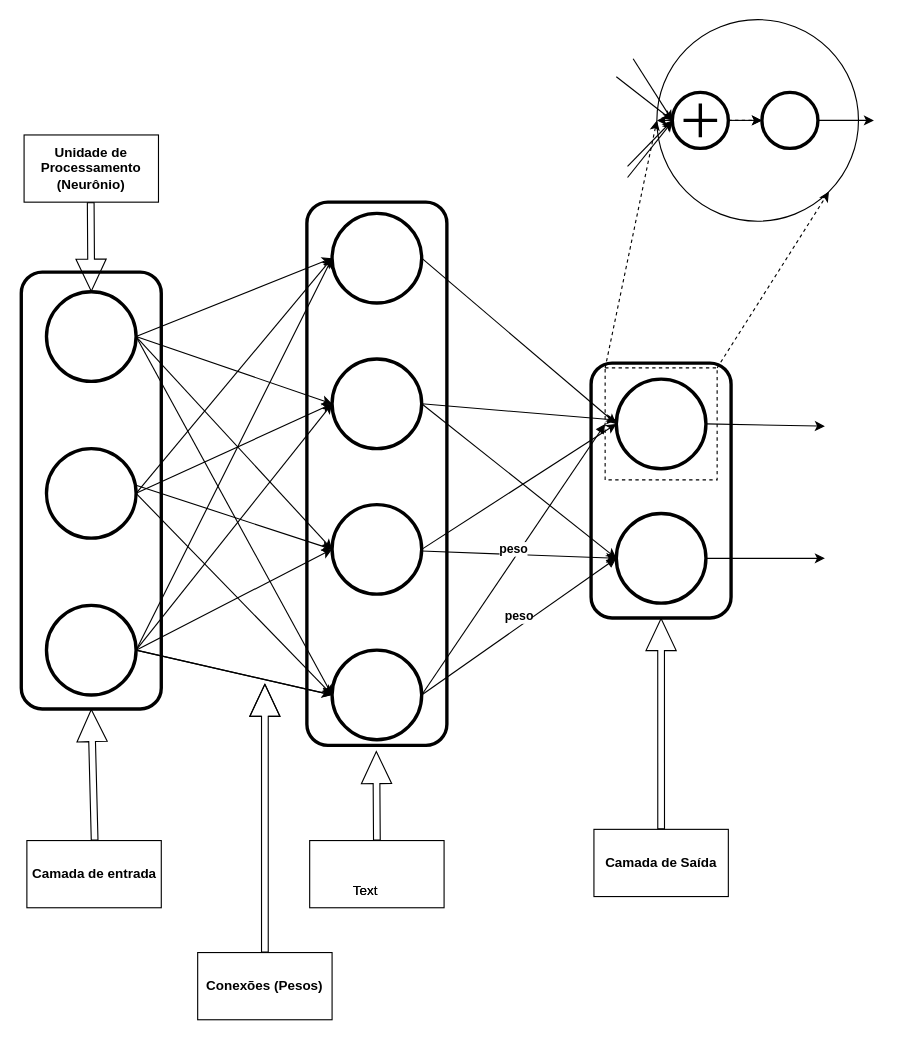
The diagram is 903 pixels wide and 1039 high, and some of its shapes have lost their labels. Here are the shapes that lost their labels. From the top down, the box of each, then its label:
(760, 90, 819, 150): fn
(309, 839, 444, 908): Camada Intermediária
